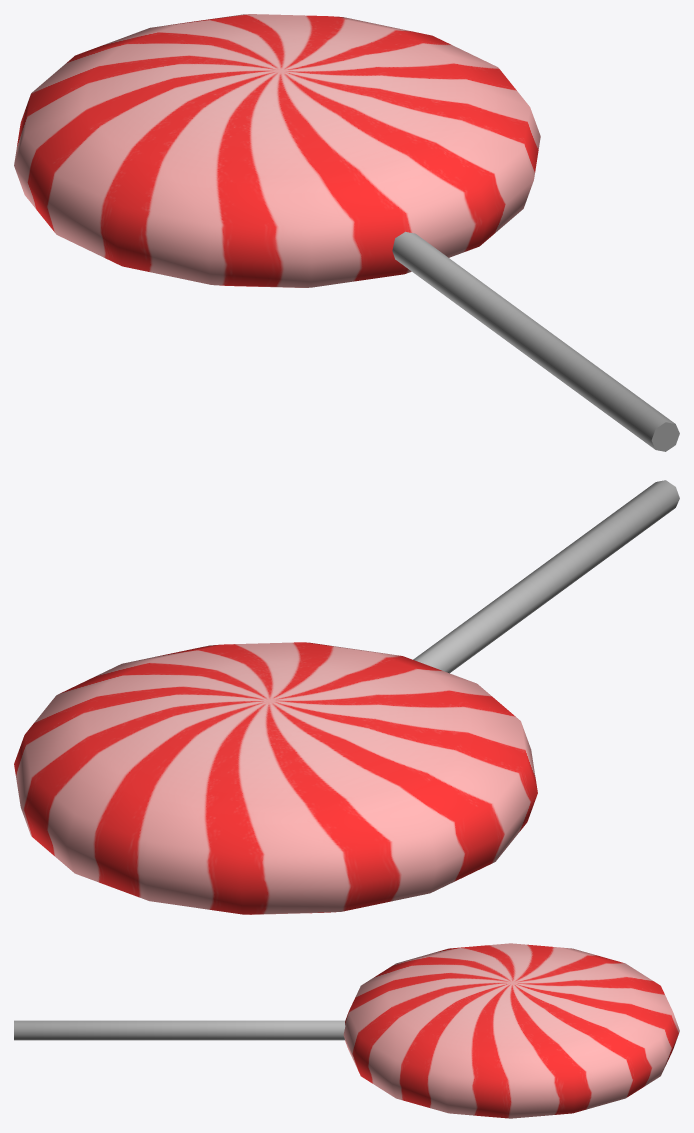
File: Candy.FBX
The picture shows the model from 3 angles, top to bottom: view 1: azimuth 30°, elevation 25°; view 2: azimuth 150°, elevation 25°; view 3: azimuth 270°, elevation 25°; orthographic projection. The views are drawn at different scales.
Parts seen in each view (by area): view 1: Candy; view 2: Candy; view 3: Candy.
Part boxes in pixels (x1=…): Candy: x1=14, y1=14, x2=679, y2=451; Candy: x1=14, y1=480, x2=679, y2=914; Candy: x1=14, y1=943, x2=679, y2=1118.
Size of the model in its own units: 16.16 by 5.24 by 31.8.
1 material, 1 textured.
